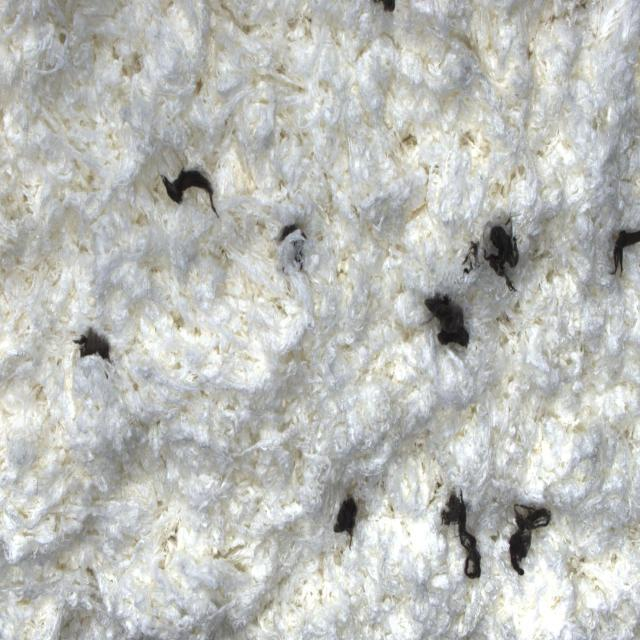dust: (461, 206, 530, 298), (271, 189, 317, 301), (436, 492, 492, 578), (596, 201, 640, 298), (504, 499, 553, 581), (156, 162, 221, 216), (423, 284, 473, 350), (326, 485, 365, 551), (69, 324, 116, 368), (371, 0, 406, 35)
